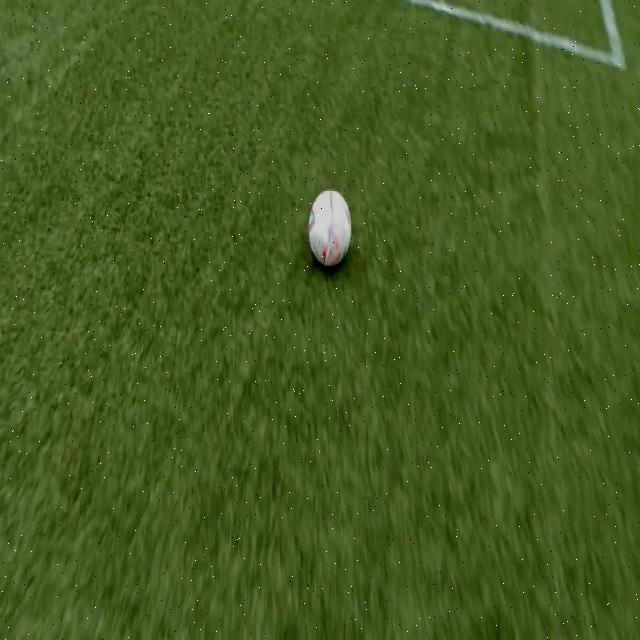ball: (309, 190, 352, 269)
